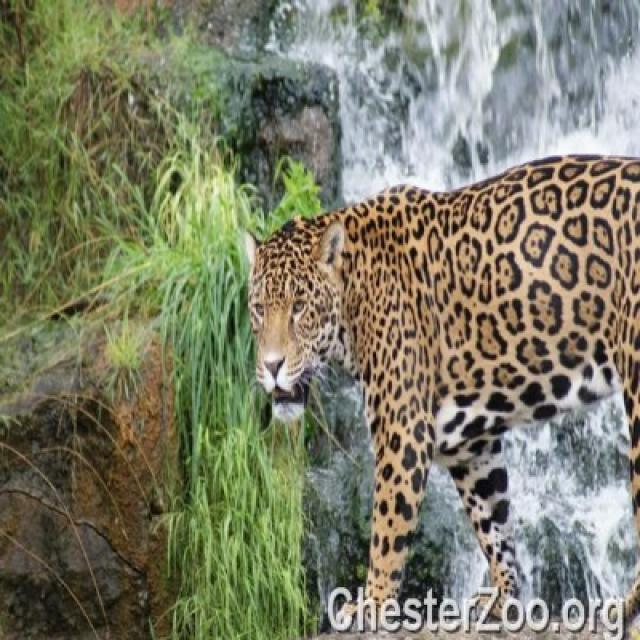Jaguar: (248, 157, 638, 614)
